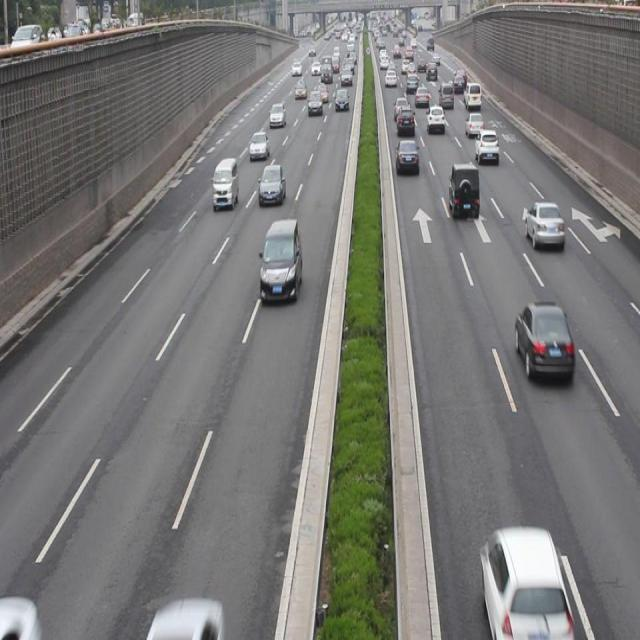car: (478, 524, 572, 640), (514, 299, 573, 382), (146, 594, 222, 640), (522, 198, 563, 252), (1, 591, 42, 640), (447, 160, 479, 218), (257, 162, 285, 208), (472, 127, 498, 163), (396, 138, 419, 174), (247, 128, 269, 160), (424, 104, 445, 136), (396, 105, 415, 134), (268, 100, 286, 126), (466, 111, 483, 134)
truck: (258, 219, 302, 305), (212, 156, 238, 210)
